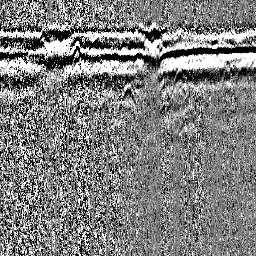cavity: (118, 84, 138, 109)
